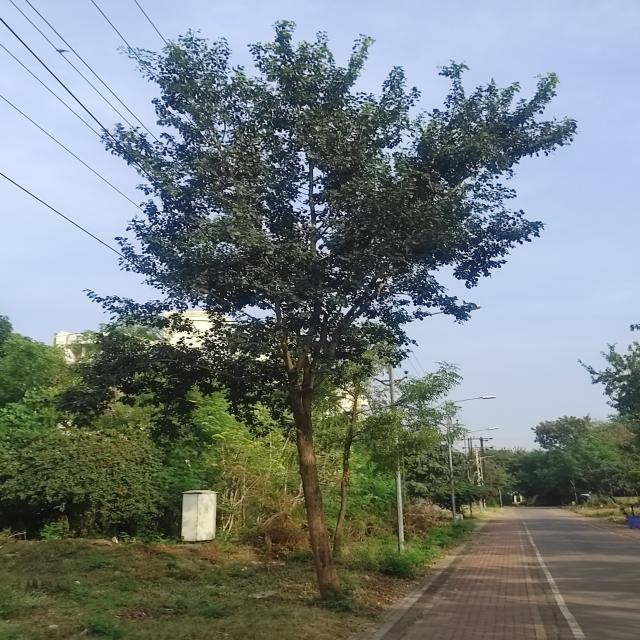Devakanchan tree: (126, 32, 504, 474)
